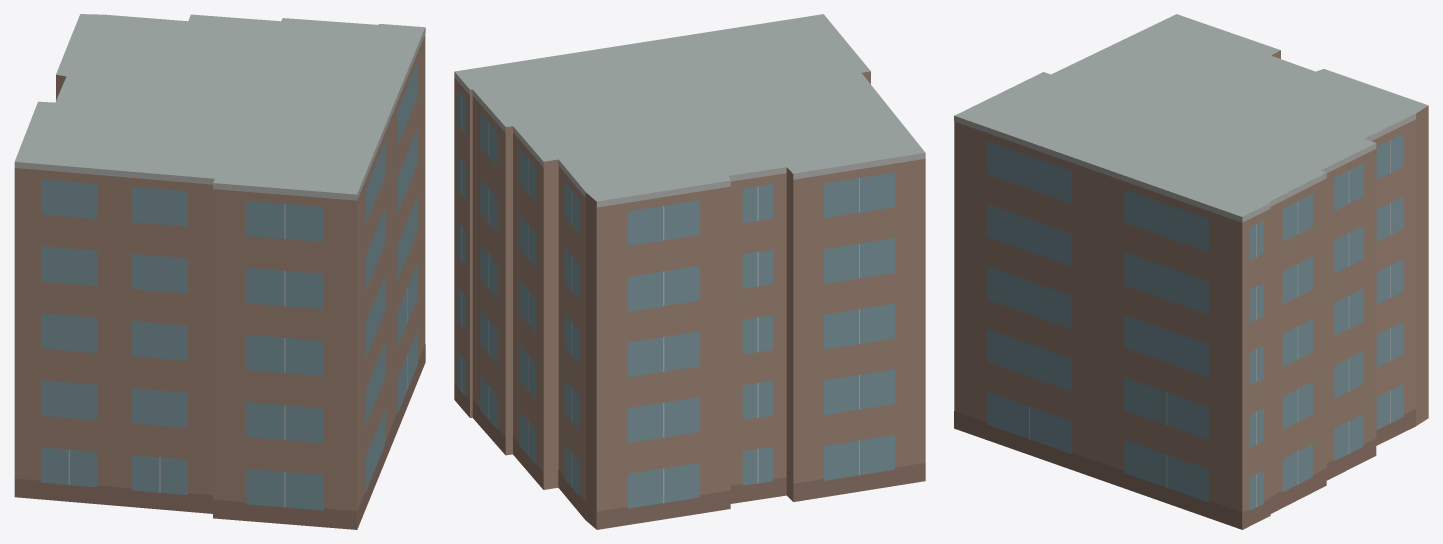
File: survey-upis-32884078.glb
The picture shows the model from 3 angles, left to right: view 1: azimuth 30°, elevation 25°; view 2: azimuth 150°, elevation 25°; view 3: azimuth 270°, elevation 25°; orthographic projection. The views are drawn at different scales.
Parts seen in each view (by area): view 1: survey-upis-32884078.tmp; view 2: survey-upis-32884078.tmp; view 3: survey-upis-32884078.tmp.
Part boxes in pixels (x1,y1,x2,y2): survey-upis-32884078.tmp: (14, 14, 425, 529); survey-upis-32884078.tmp: (454, 14, 925, 529); survey-upis-32884078.tmp: (954, 14, 1428, 529).
Size of the model in its own units: 18.81 by 13.5 by 18.57.
